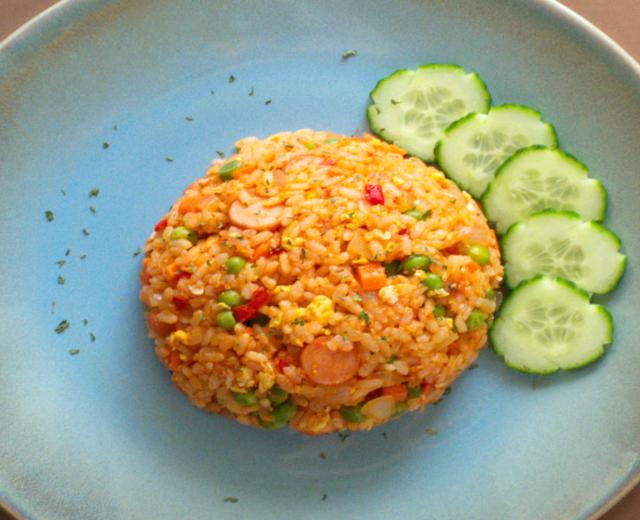fried rice: (140, 130, 502, 435)
